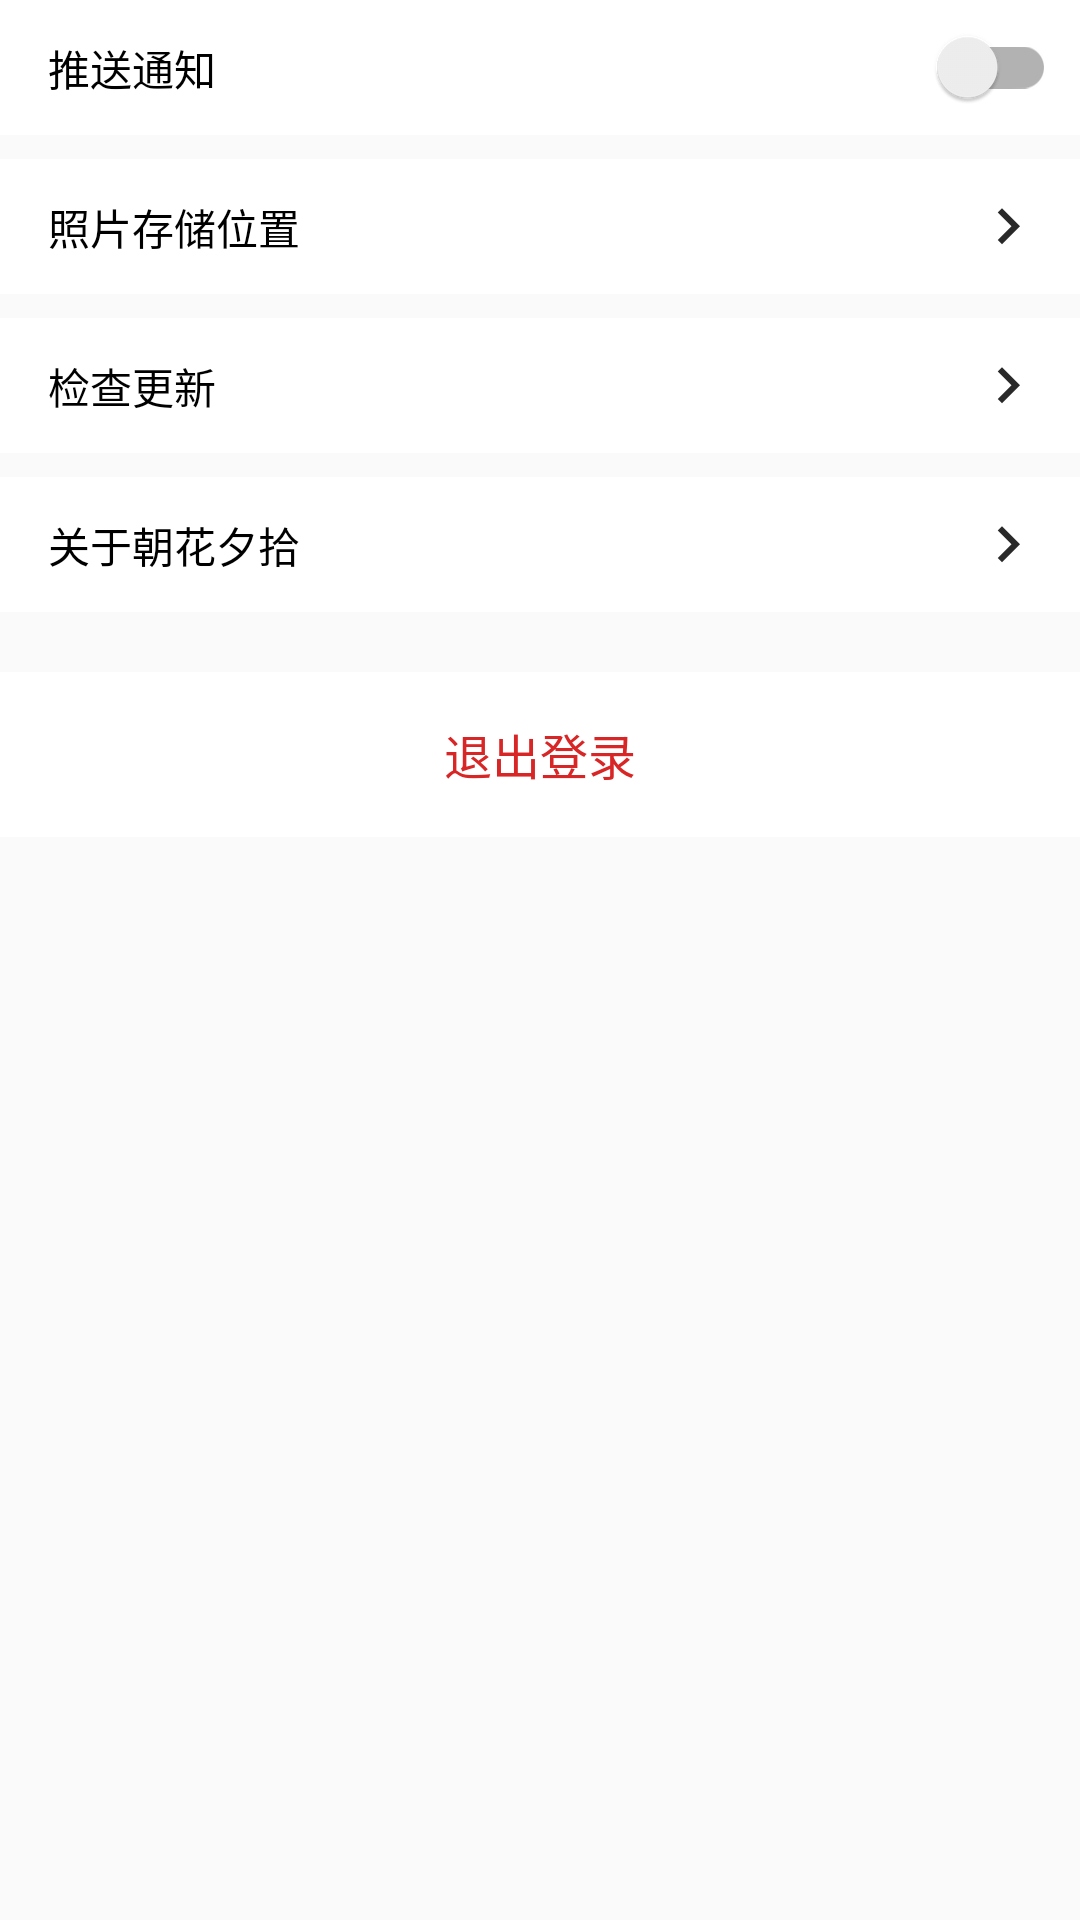

Locate icon controls on the screen. Image size 1080w x 1920h, boxes as (x1, y1, x2, y2).
keyboard arrow right: (998, 208, 1020, 244), (998, 367, 1020, 403), (998, 526, 1020, 562)
